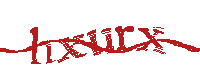h: (30, 27, 55, 66)
r: (114, 24, 133, 55)
u: (88, 28, 114, 56)
x: (58, 35, 87, 62), (137, 26, 165, 53)
